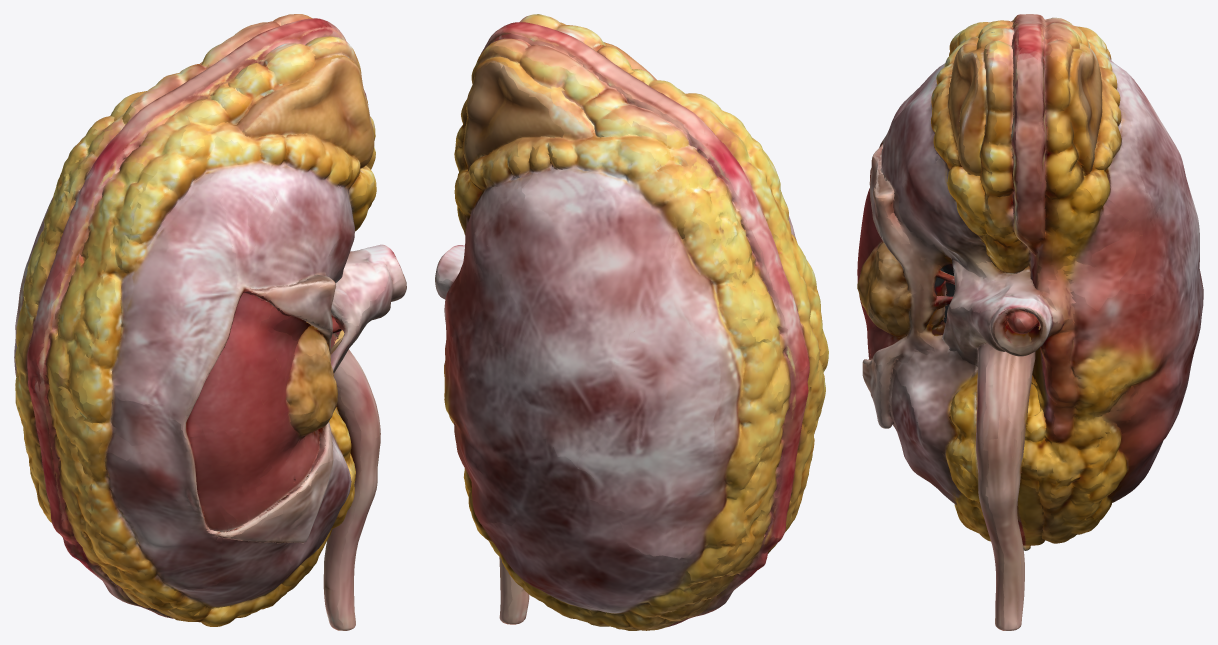
File: 01-covered.glb
The picture shows the model from 3 angles, left to right: view 1: azimuth 30°, elevation 25°; view 2: azimuth 150°, elevation 25°; view 3: azimuth 270°, elevation 25°; orthographic projection. The views are drawn at different scales.
Visible parts, largest first — view 1: geometry_0; view 2: geometry_0; view 3: geometry_0.
Part boxes in pixels (x1=…): geometry_0: x1=14, y1=14, x2=406, y2=630; geometry_0: x1=435, y1=14, x2=828, y2=630; geometry_0: x1=857, y1=14, x2=1203, y2=630.
Bounding box in the file's own units: 0.6315 × 1 × 0.549.
1 material, 1 textured.
